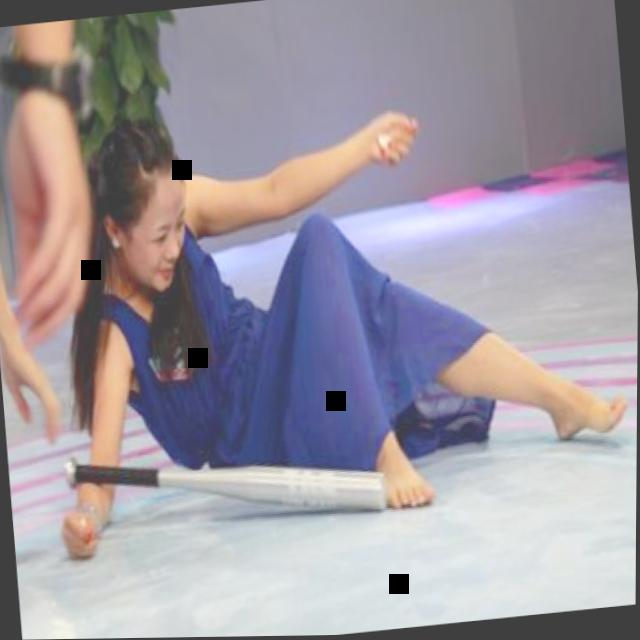Fall-Detected: (40, 34, 640, 564)
